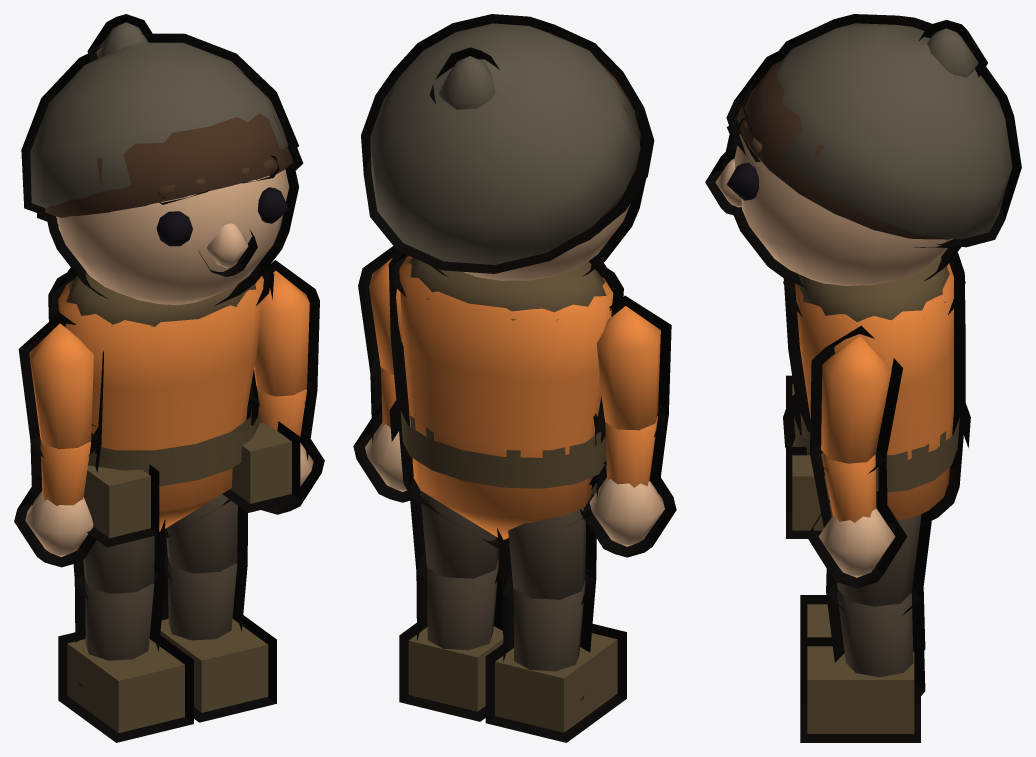
File: folk.glb
3 renders of one model, left to right at view 1: azimuth 30°, elevation 25°; view 2: azimuth 150°, elevation 25°; view 3: azimuth 270°, elevation 25°, orthographic. The views are drawn at different scales.
Parts seen in each view (by area): view 1: Head, Torso, Head.001, LegR, LegL, Torso.001, ArmR, ArmL, HandR, HandL; view 2: Head.001, Torso, LegR, LegL, ArmR, Torso.001, HandR, Head, ArmL, HandL; view 3: Head.001, Torso, Head, LegL, ArmL, Torso.001, HandL, LegR.
Part boxes in pixels (x1,y1,x2,y2): Head: (36,70,303,305); Torso: (48,266,274,539); Head.001: (21,14,298,219); LegR: (58,519,193,742); LegL: (160,494,276,722); Torso.001: (83,412,300,547); ArmR: (18,312,103,505); ArmL: (247,260,319,460); HandR: (14,474,96,567); HandL: (261,426,324,514); Head.001: (361,14,649,273); Torso: (388,250,623,549); LegR: (485,507,626,742); LegL: (399,457,503,721); ArmR: (593,295,671,497); Torso.001: (389,400,606,494); HandR: (580,461,676,557); Head: (421,19,654,280); ArmL: (358,246,403,443); HandL: (353,406,409,502); Head.001: (741,14,1021,247); Torso: (783,252,965,526); Head: (705,27,978,288); LegL: (800,507,933,742); ArmL: (809,325,902,527); Torso.001: (783,375,970,538); HandL: (806,491,907,588); LegR: (800,588,925,649).
Size of the model in its own units: 0.9001 by 1.93 by 0.8048.
